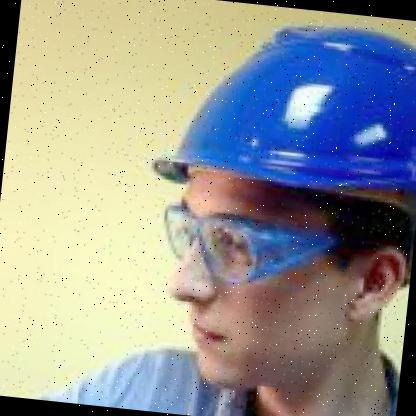capacete: (128, 0, 416, 224)
oculos: (146, 193, 356, 300)
